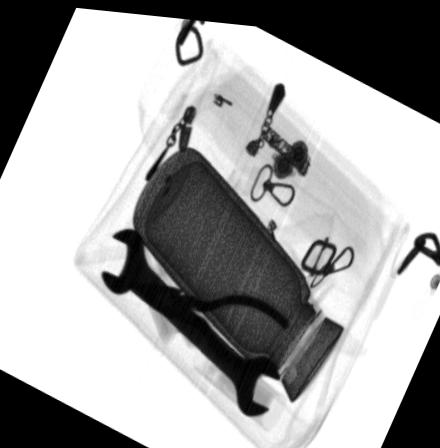Pliers: (138, 284, 291, 369)
Wrench: (100, 224, 285, 410)
